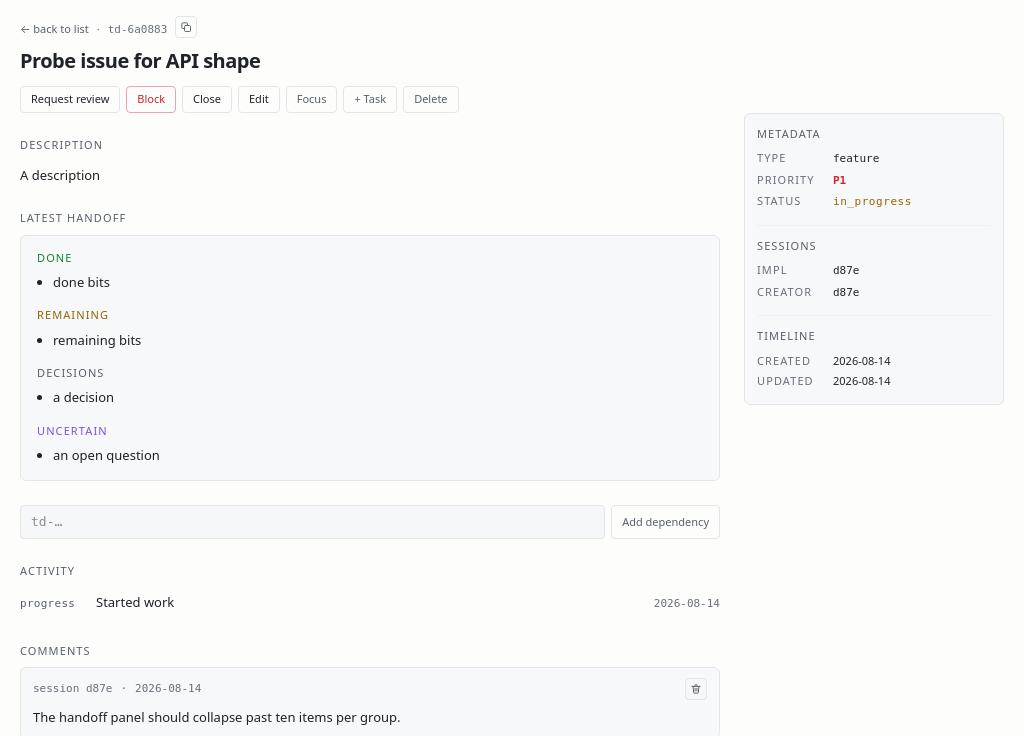
Scenario: IssueDetail › shows td's policy rejection verbatim when a transition is refused
This screenshot has width=1024, height=736.
// Close takes an optional reason, so it confirms through the form.
Click the button "Close" at (207, 99), box top-left (182, 86), bottom-right (232, 112)
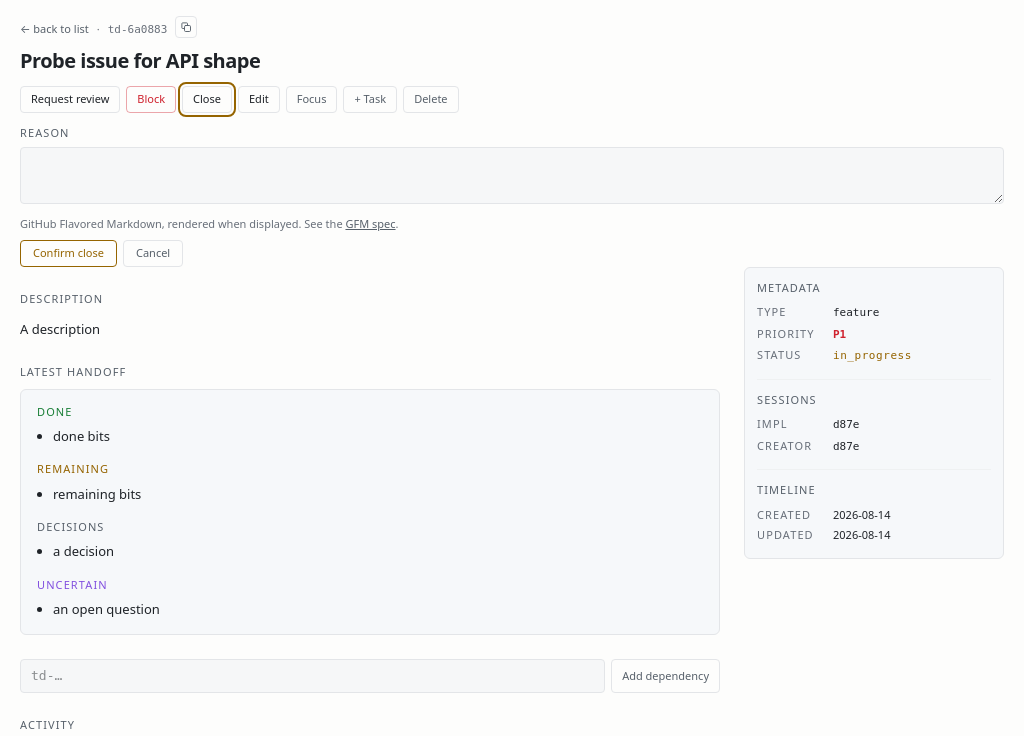
Click the button "Confirm close" at (68, 253), box top-left (20, 240), bottom-right (117, 266)
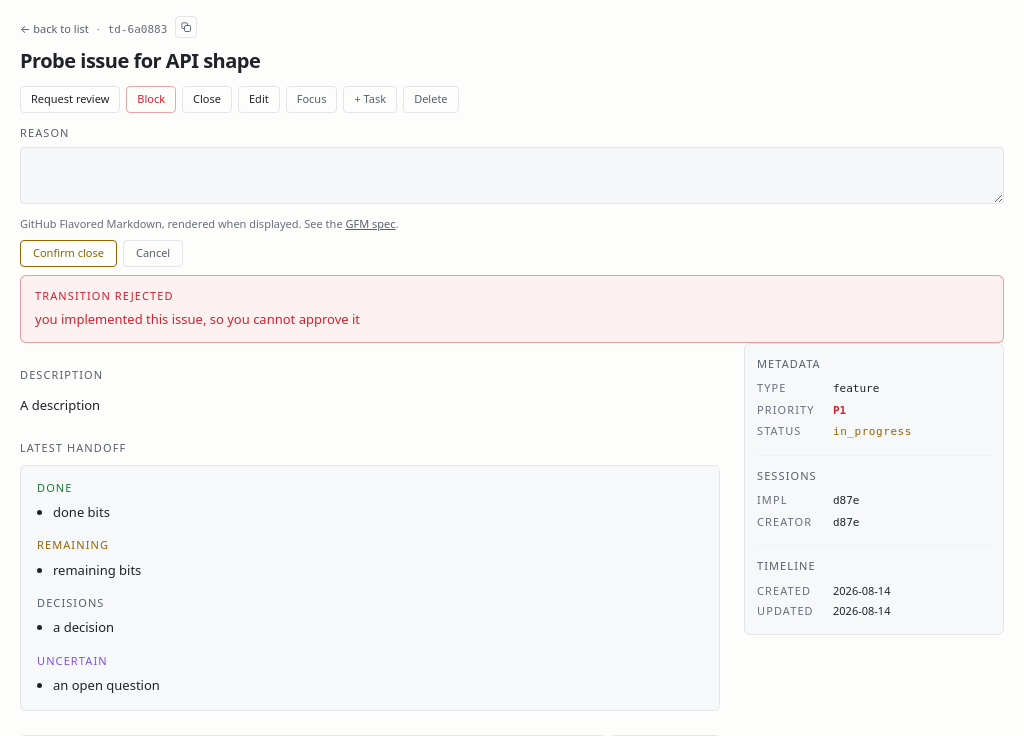
Expected: the text "you implemented this issue, so you cannot approve it" is shown, top-left (35, 310), bottom-right (360, 328)
